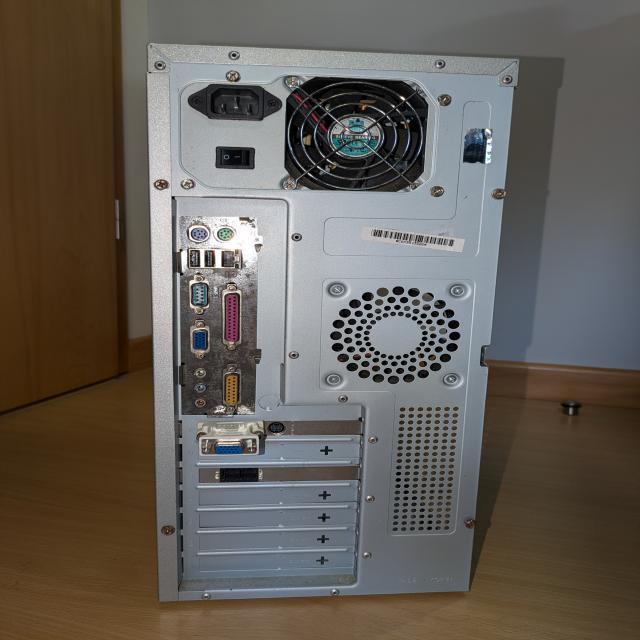PSU: (170, 75, 447, 194)
